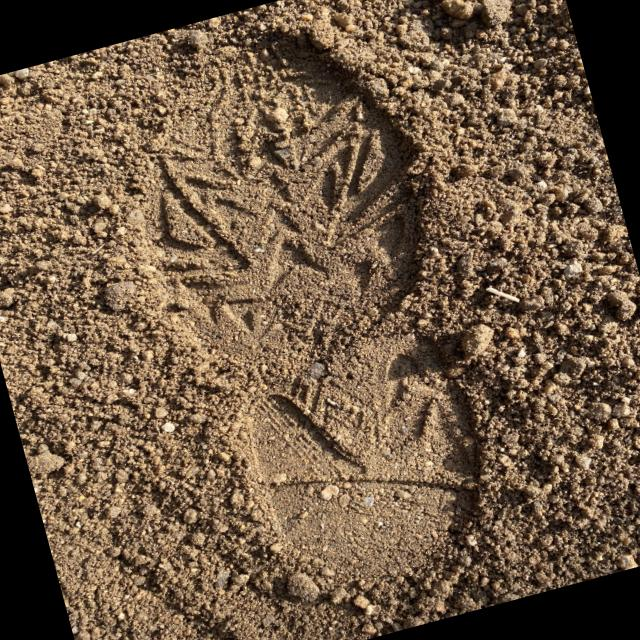human_foot_print: (68, 64, 548, 598)
